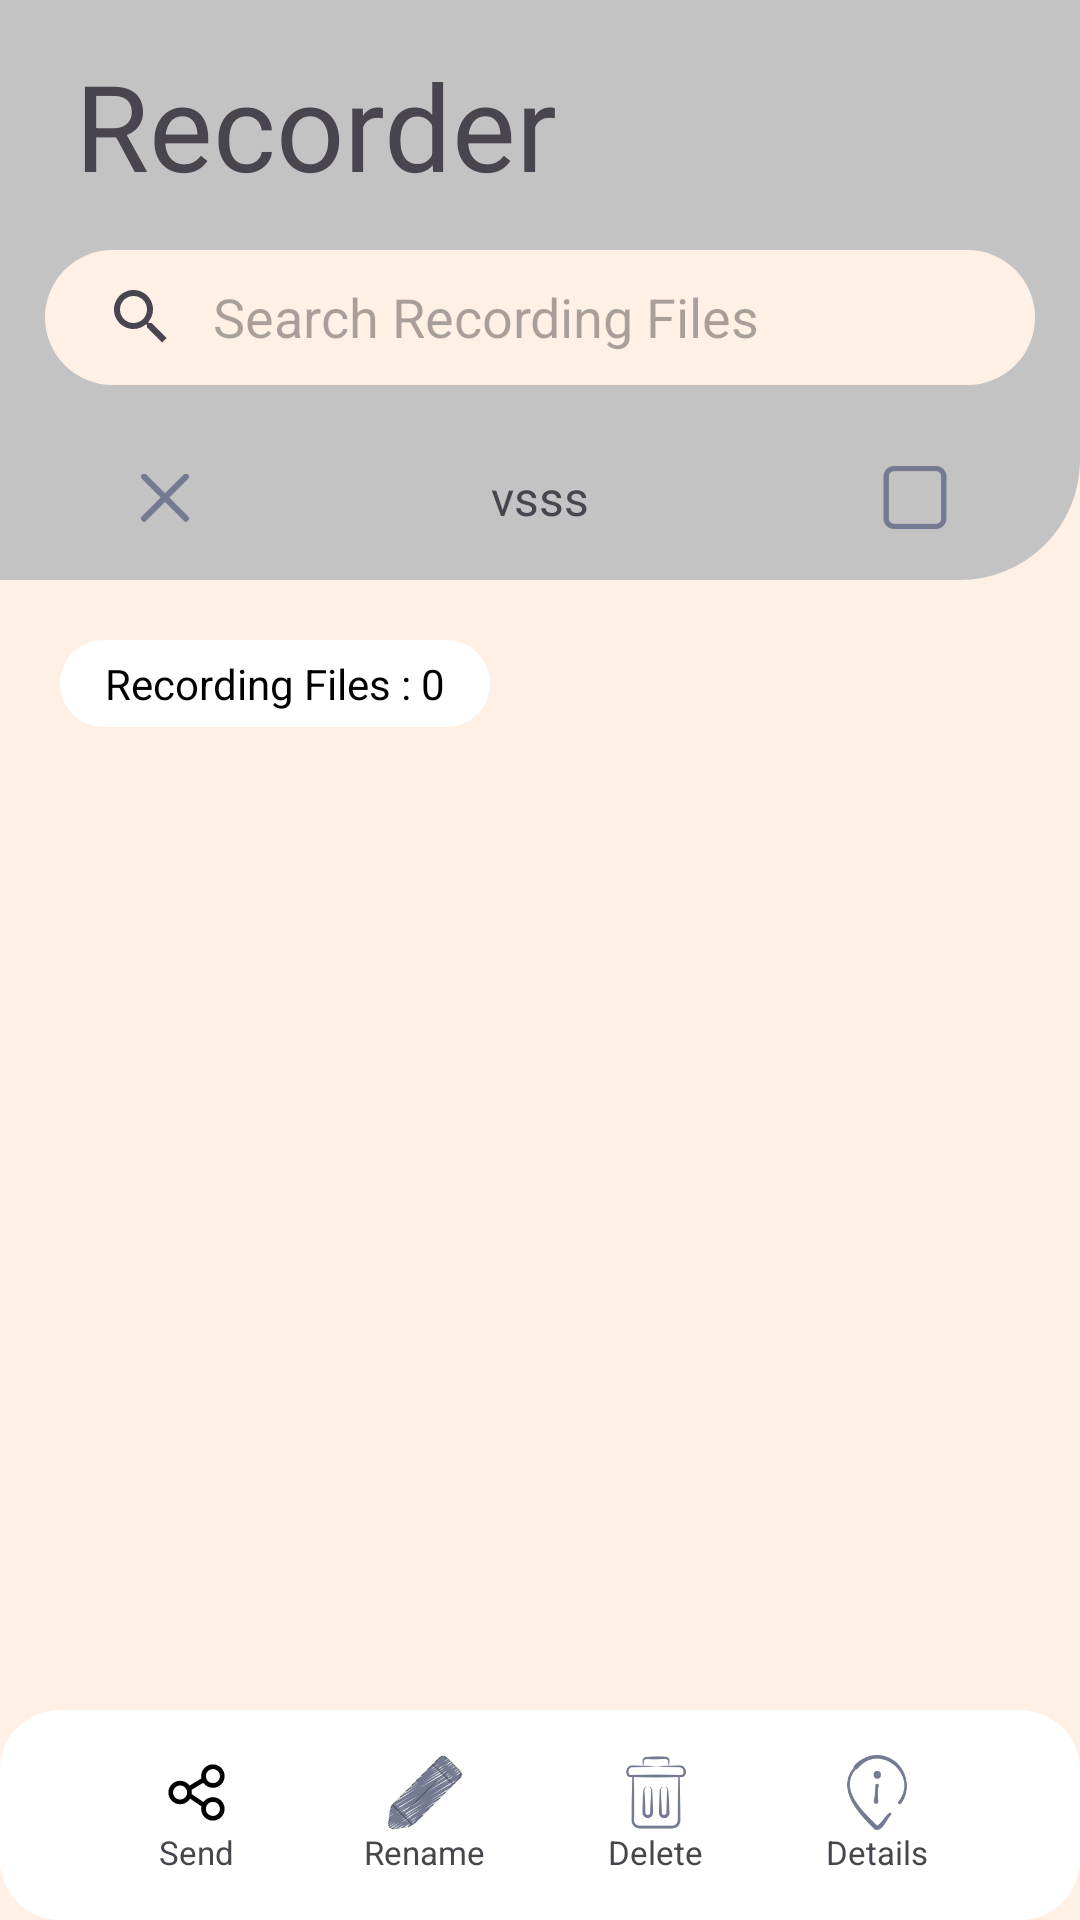

Where to tap for icons on this 1080 × 1920 app screen, as (x,y):
close: (165,498)
select none: (915,497)
